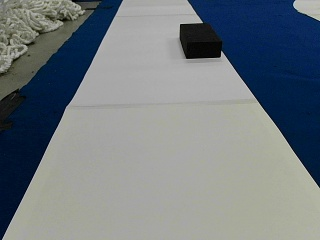block: (179, 22, 221, 58)
